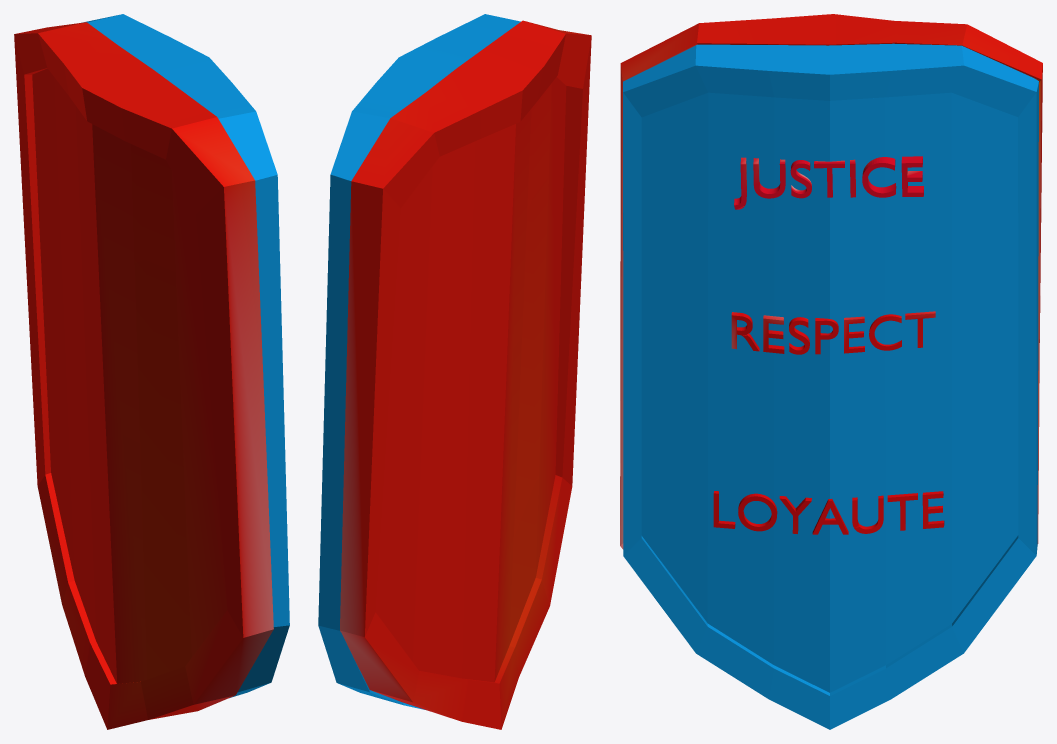
File: testglb.glb
3 views of the same model, side by side, from view 1: azimuth 30°, elevation 25°; view 2: azimuth 150°, elevation 25°; view 3: azimuth 270°, elevation 25° (orthographic).
Visible parts, largest first — view 1: Shield.001, Shield; view 2: Shield.001, Shield; view 3: Shield, Shield.001, Texte, Texte.001, Texte.002.
Part boxes in pixels (x1,y1,x2,y2): Shield.001: (14,22,273,729); Shield: (81,14,289,698); Shield.001: (340,20,591,729); Shield: (318,14,520,709); Shield: (623,43,1038,729); Shield.001: (620,14,1042,549); Texte: (734,156,923,209); Texte.001: (731,311,935,354); Texte.002: (713,491,944,534).
Size of the model in its own units: 3.08 by 13.39 by 7.82.
